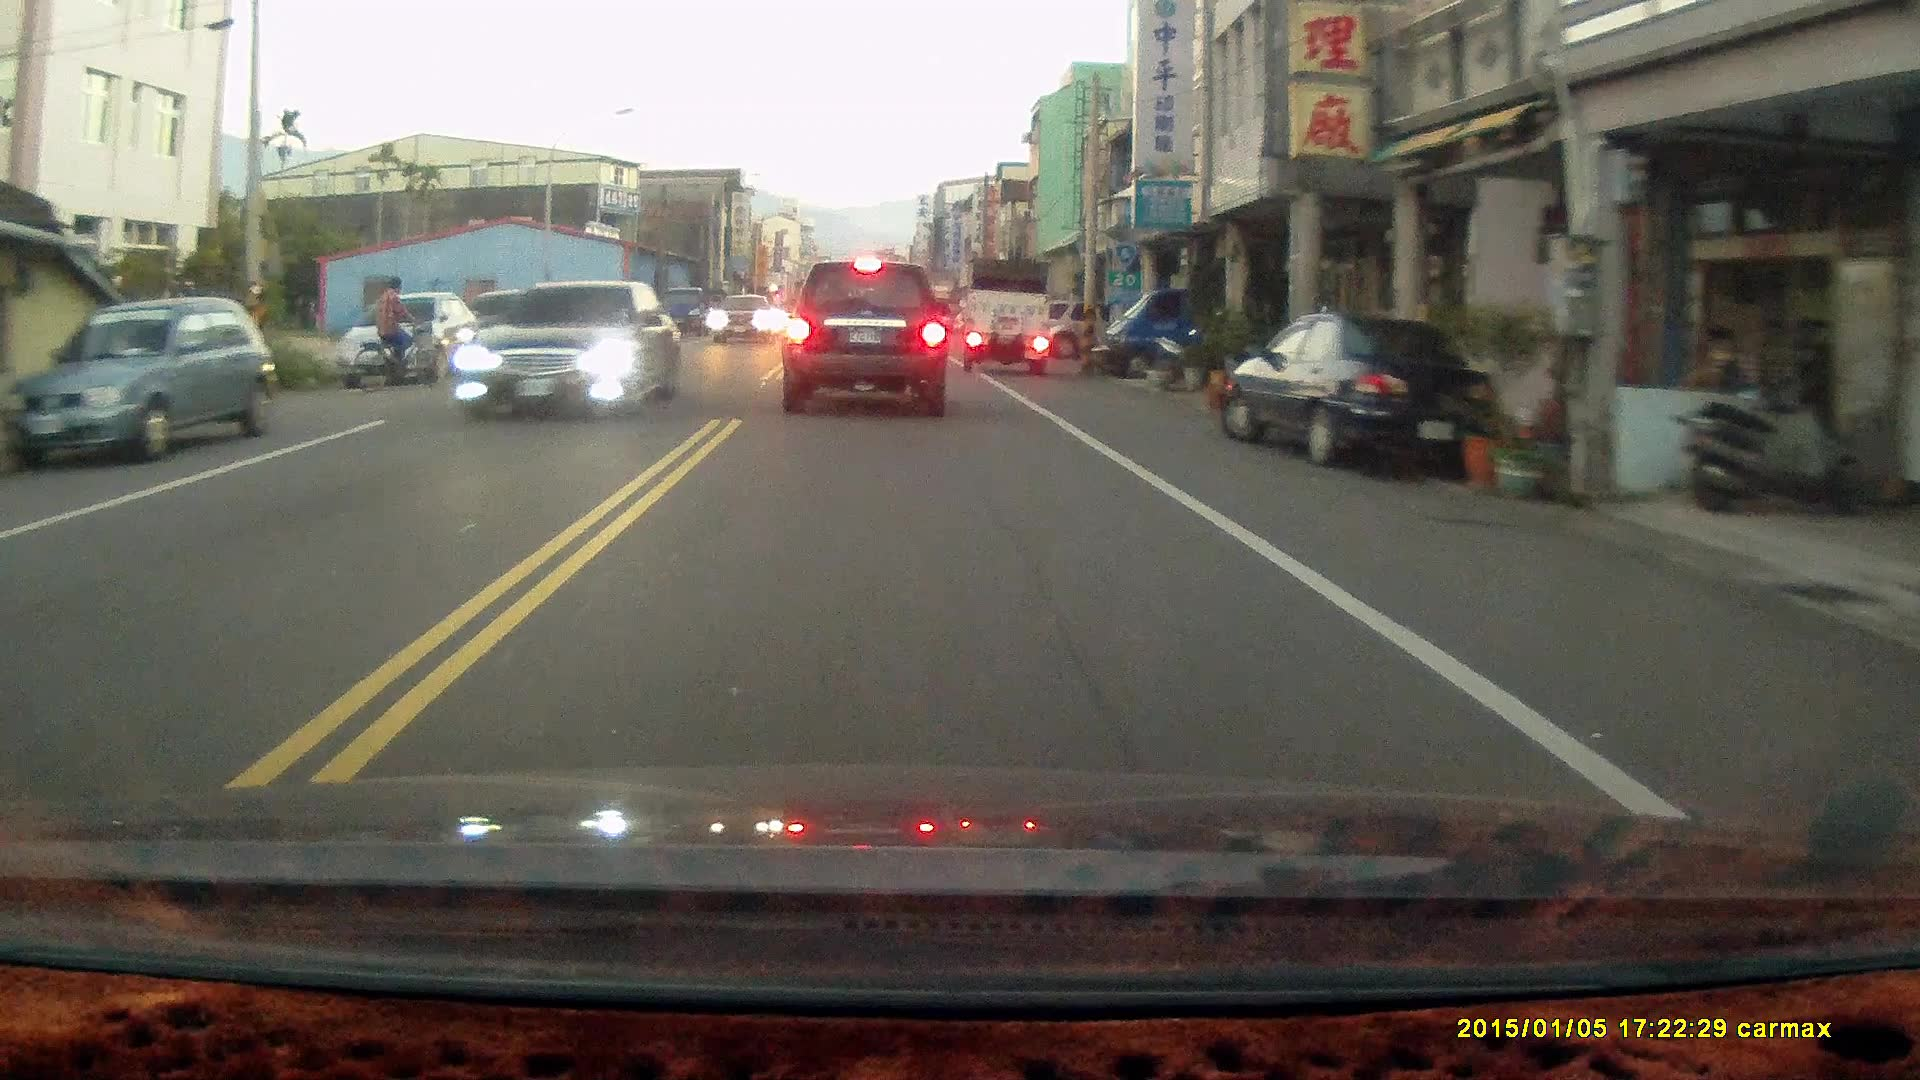rider: (347, 277, 447, 392)
vehicle: (1219, 313, 1498, 473), (14, 298, 272, 468), (450, 281, 689, 424), (785, 264, 950, 422), (1093, 274, 1240, 382), (335, 297, 497, 394), (959, 258, 1053, 374), (712, 299, 783, 348)
